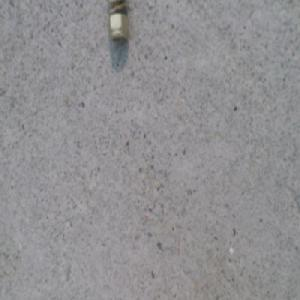BoltNutSet: (108, 0, 128, 47)
